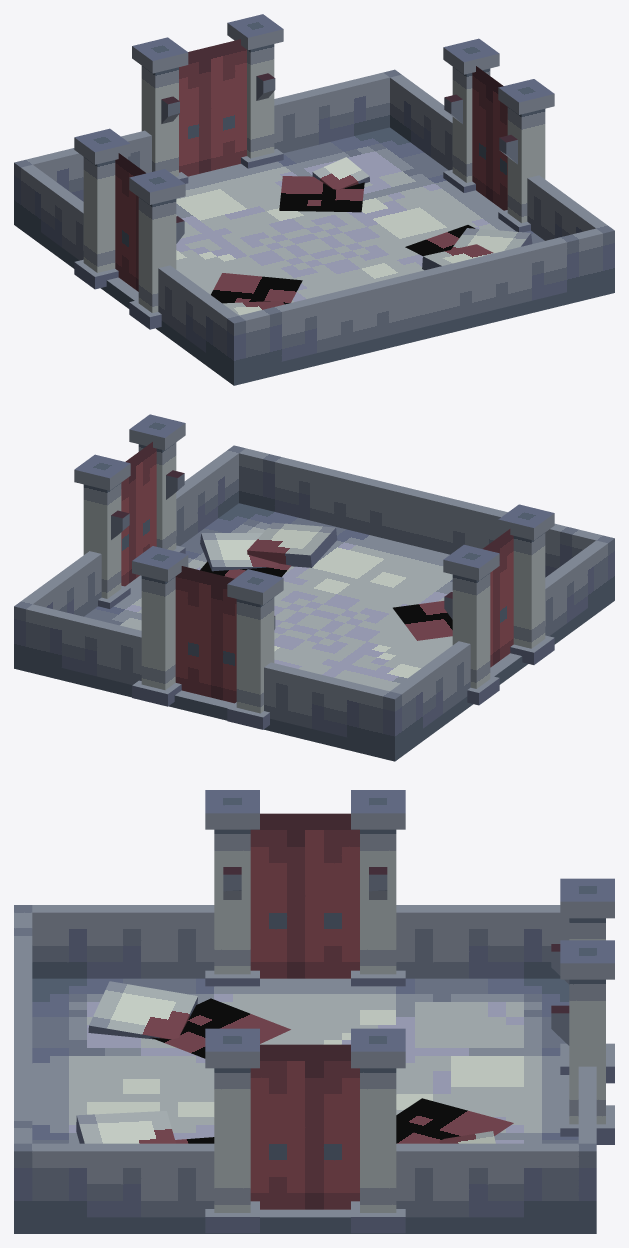
File: room.glb
3 renders of one model, top to bottom at view 1: azimuth 30°, elevation 25°; view 2: azimuth 150°, elevation 25°; view 3: azimuth 270°, elevation 25°, orthographic. The views are drawn at different scales.
Visible parts, largest first — view 1: floor, wall3, door, cube_1, pillar_4, pillar_5, cube_4, pillar_2, pillar_1, pillar, door_1, cube_2 (+14 smaller); view 2: floor, wall3, door, cube, cube_1, pillar, pillar_1, pillar_5, pillar_4, pillar_3, cube_5, cube_4 (+10 smaller); view 3: floor, door_2, door_1, cube_2, cube_3, cube_4, cube_5, pillar_2, pillar_3, pillar_5, pillar_4, pillar (+9 smaller).
Boxes of the visible parts, bbox=[...] form: floor: bbox=[14, 127, 614, 385]; wall3: bbox=[229, 228, 602, 373]; door: bbox=[179, 39, 246, 176]; cube_1: bbox=[274, 69, 400, 153]; pillar_4: bbox=[74, 128, 130, 289]; pillar_5: bbox=[129, 169, 185, 329]; cube_4: bbox=[158, 265, 245, 372]; pillar_2: bbox=[498, 79, 554, 232]; pillar_1: bbox=[132, 37, 188, 183]; pillar: bbox=[227, 14, 283, 168]; door_1: bbox=[472, 66, 507, 210]; cube_2: bbox=[383, 70, 452, 170]; floor: bbox=[14, 503, 614, 761]; wall3: bbox=[239, 448, 614, 592]; door: bbox=[175, 566, 236, 703]; cube: bbox=[264, 662, 401, 748]; cube_1: bbox=[14, 604, 141, 684]; pillar: bbox=[132, 546, 188, 706]; pillar_1: bbox=[227, 569, 283, 729]; pillar_5: bbox=[498, 504, 554, 664]; pillar_4: bbox=[443, 544, 499, 705]; pillar_3: bbox=[74, 454, 130, 608]; cube_5: bbox=[383, 641, 470, 748]; cube_4: bbox=[545, 538, 614, 636]; floor: bbox=[14, 978, 596, 1233]; door_2: bbox=[250, 813, 359, 978]; door_1: bbox=[250, 1044, 359, 1209]; cube_2: bbox=[396, 1143, 596, 1217]; cube_3: bbox=[14, 1143, 214, 1217]; cube_4: bbox=[14, 905, 214, 978]; cube_5: bbox=[396, 905, 569, 978]; pillar_2: bbox=[205, 1028, 259, 1233]; pillar_3: bbox=[351, 1028, 405, 1233]; pillar_5: bbox=[205, 790, 259, 986]; pillar_4: bbox=[351, 790, 405, 986]; pillar: bbox=[560, 940, 614, 1144].
Bounding box in the file's own units: 5.31 × 1.8 × 5.16.
2 materials, 2 textured.
